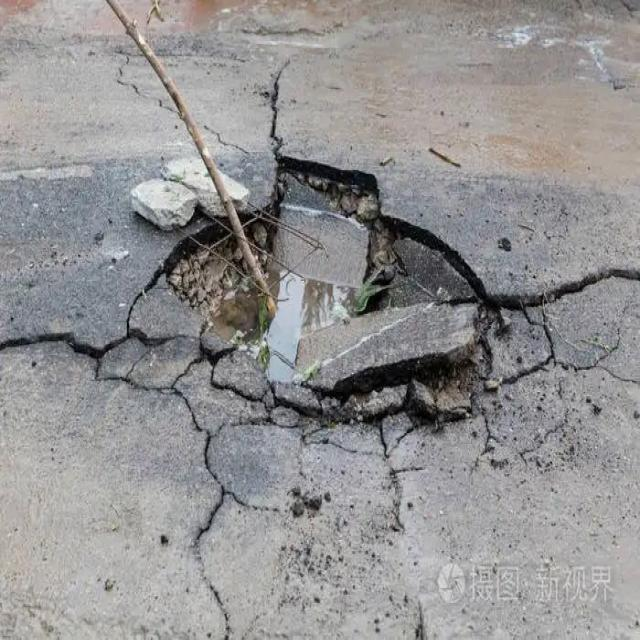Buraco: (144, 152, 640, 443)
